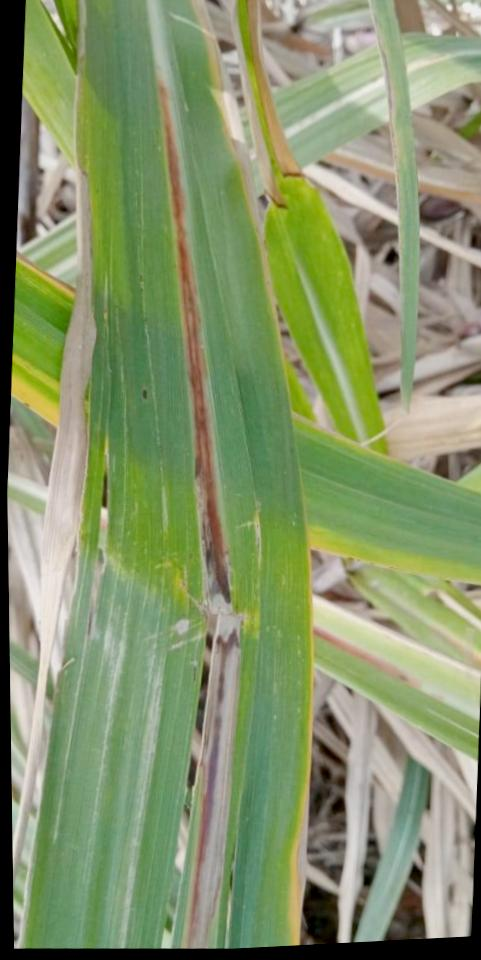RedRot: (151, 71, 230, 611), (186, 613, 242, 947)
